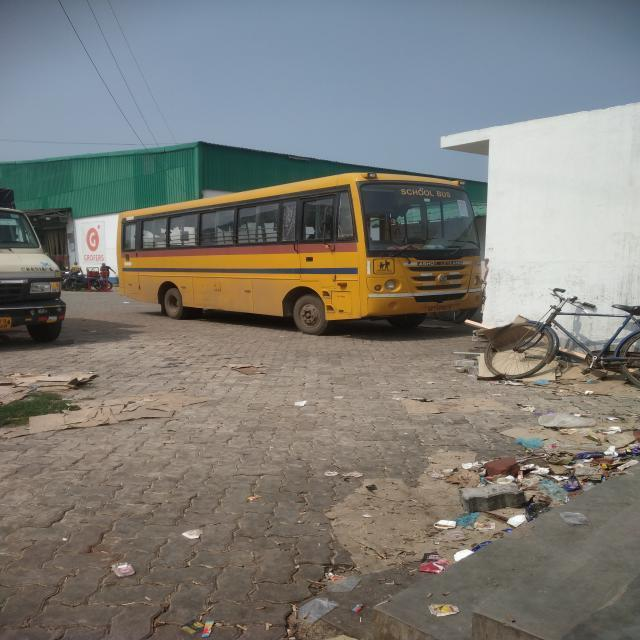bus_front: (112, 157, 494, 339)
car_front: (0, 186, 77, 348)
